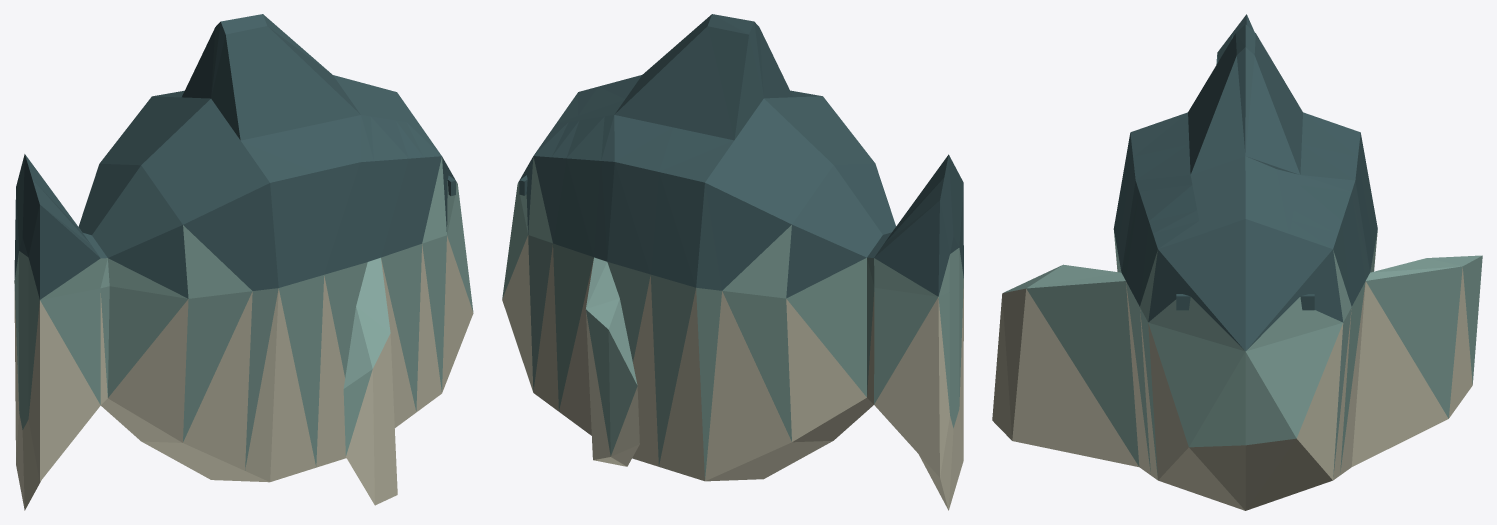
Rendered from Fish.obj.
The picture shows the model from 3 angles, left to right: view 1: azimuth 30°, elevation 25°; view 2: azimuth 150°, elevation 25°; view 3: azimuth 270°, elevation 25°; orthographic projection. The views are drawn at different scales.
Size of the model in its own units: 1 by 1 by 1.
